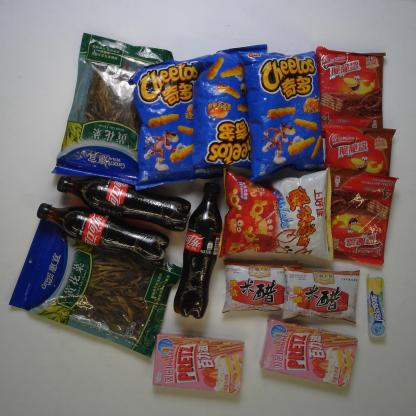Candy: (364, 271, 390, 341)
Dessert: (257, 312, 360, 390), (325, 164, 400, 268), (315, 44, 387, 140), (148, 330, 246, 398), (318, 121, 398, 180)
Dried Food: (6, 218, 184, 358), (48, 29, 176, 187)
Drink: (33, 200, 172, 266), (52, 174, 193, 234), (170, 180, 226, 322)
Puffed Food: (232, 48, 327, 183), (215, 161, 337, 262), (126, 52, 214, 192), (190, 42, 270, 175)
Seasoner: (278, 262, 363, 326), (218, 257, 304, 315)
